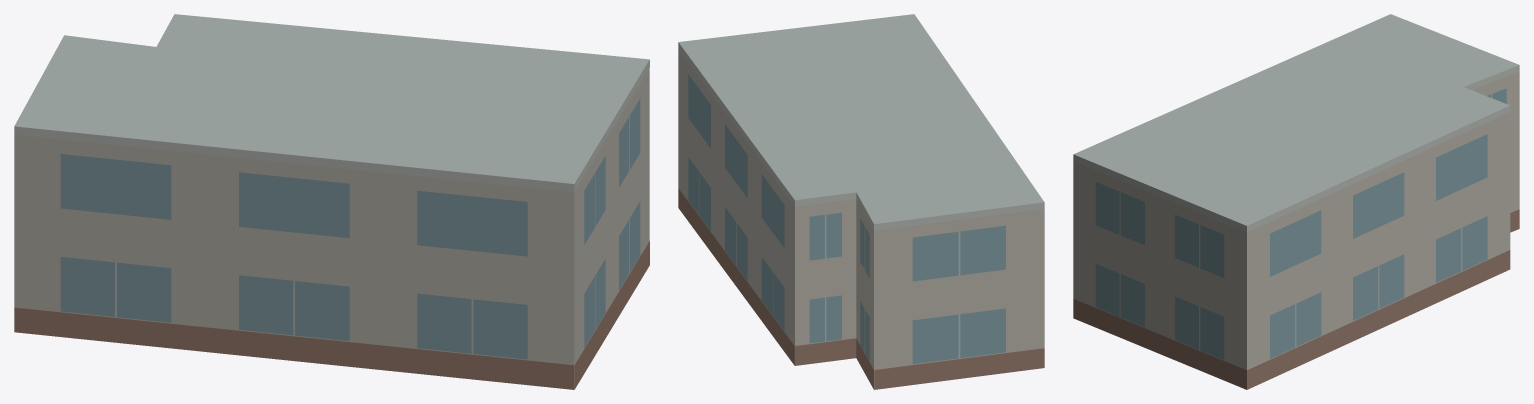
File: survey-upis-32721891.glb
The picture shows the model from 3 angles, left to right: view 1: azimuth 30°, elevation 25°; view 2: azimuth 150°, elevation 25°; view 3: azimuth 270°, elevation 25°; orthographic projection. The views are drawn at different scales.
Visible parts, largest first — view 1: survey-upis-32721891.tmp; view 2: survey-upis-32721891.tmp; view 3: survey-upis-32721891.tmp.
Part boxes in pixels (box(x1,y1,x2,y2)): survey-upis-32721891.tmp: box(14, 14, 649, 389); survey-upis-32721891.tmp: box(678, 14, 1044, 389); survey-upis-32721891.tmp: box(1073, 14, 1519, 389).
Size of the model in its own units: 16.92 by 6.1 by 15.06.
